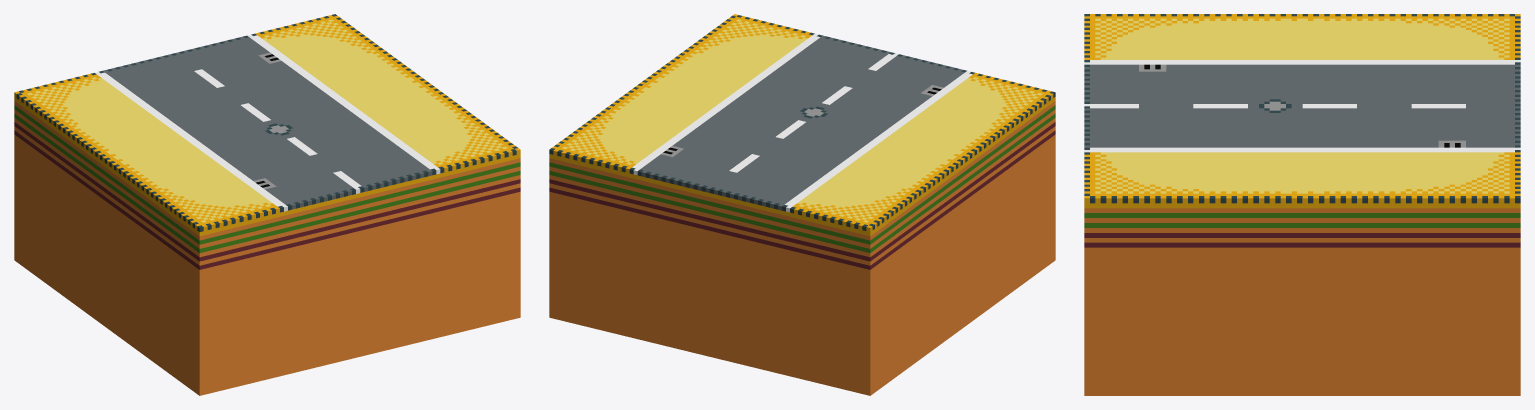
File: sand_road_1_tile.obj
The picture shows the model from 3 angles, left to right: view 1: azimuth 30°, elevation 25°; view 2: azimuth 150°, elevation 25°; view 3: azimuth 270°, elevation 25°; orthographic projection. The views are drawn at different scales.
Bounding box in the file's own units: 8 × 4 × 8.
1 material, 1 textured.
